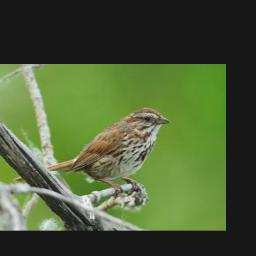Sparrow: (13, 106, 173, 199)
